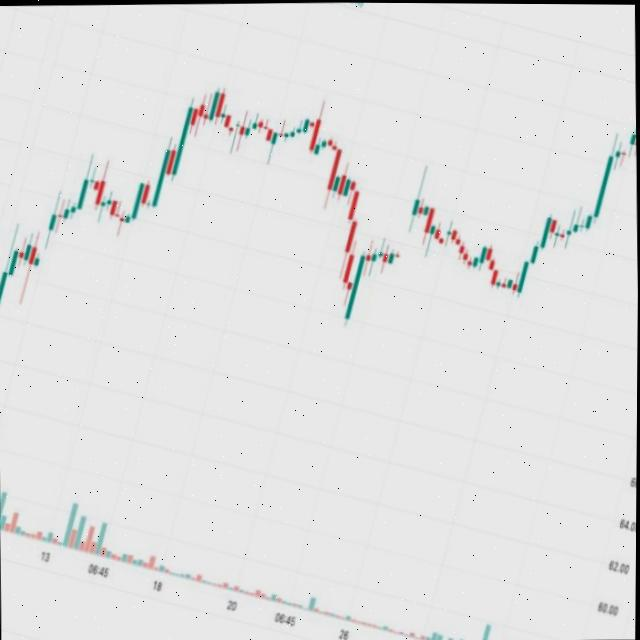Gap Up: (389, 187, 419, 275), (30, 207, 58, 269)
